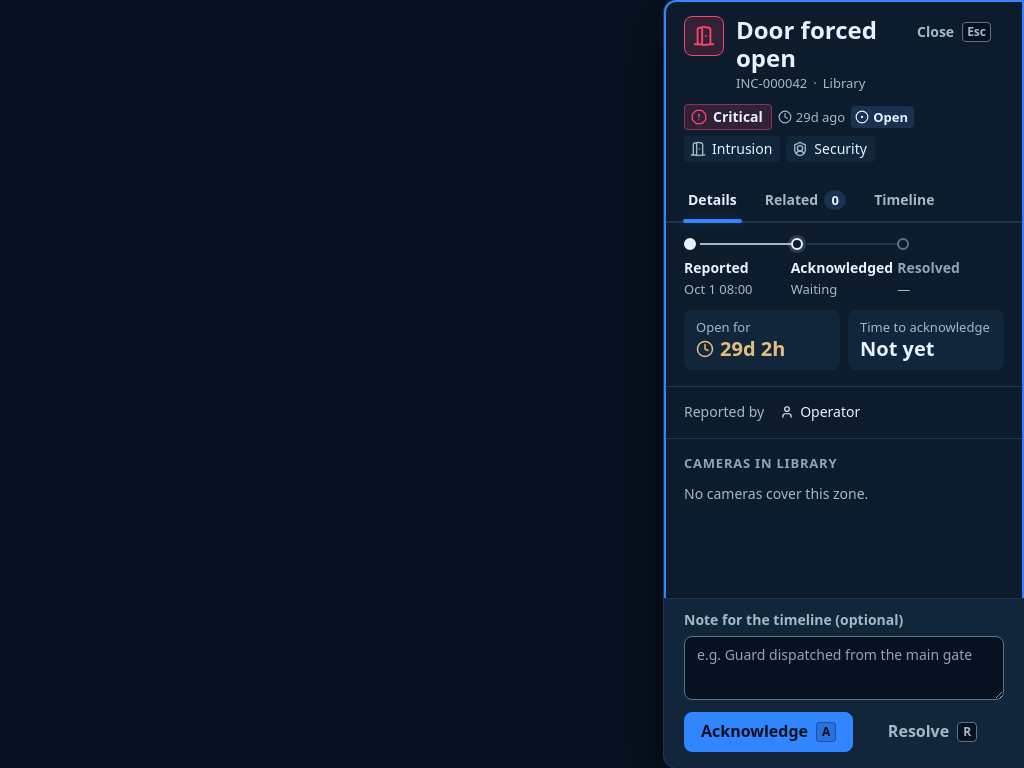
Test: IncidentDetail › resolve confirmation › resolves after confirming
Click the button "Resolve R": [932, 732] box [861,712,1004,752]
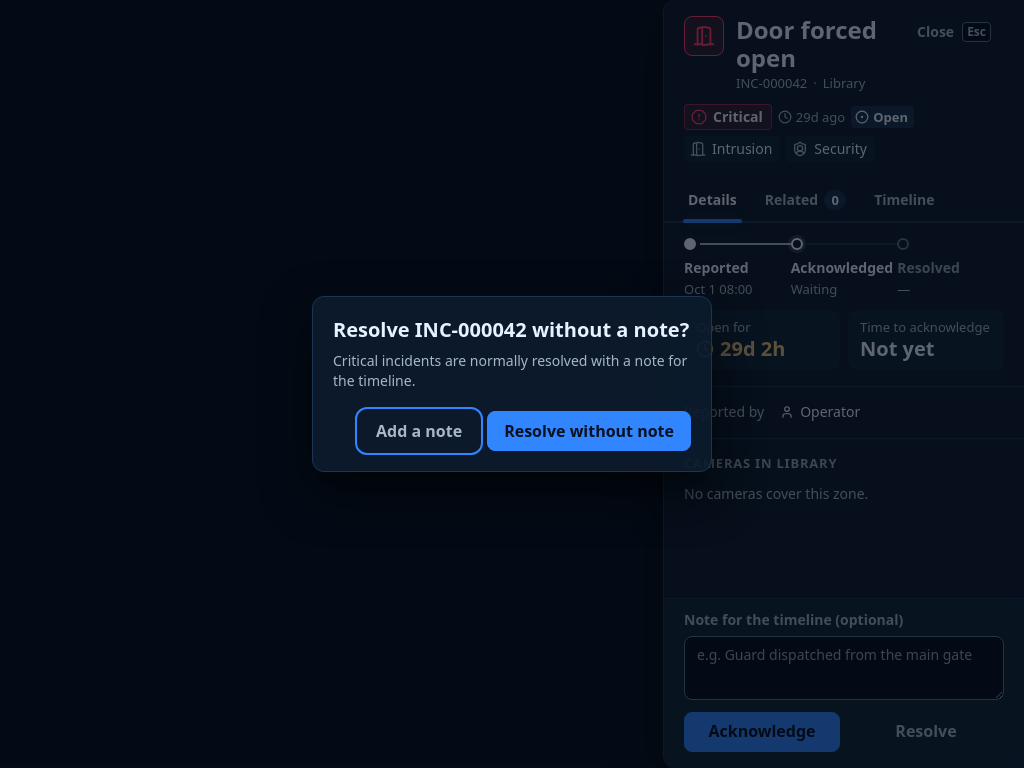
Click the button "Resolve without note": [589, 431] box [487,411,691,451]
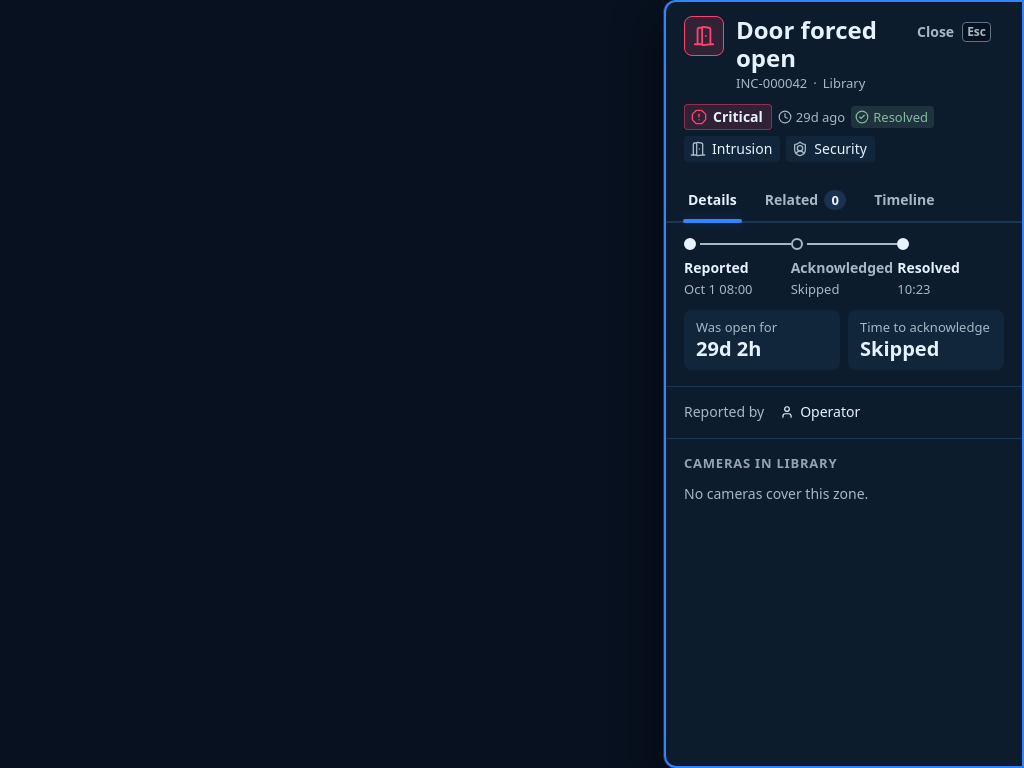
expect the heading "Resolve INC-000042 without a note?" is gone: met
